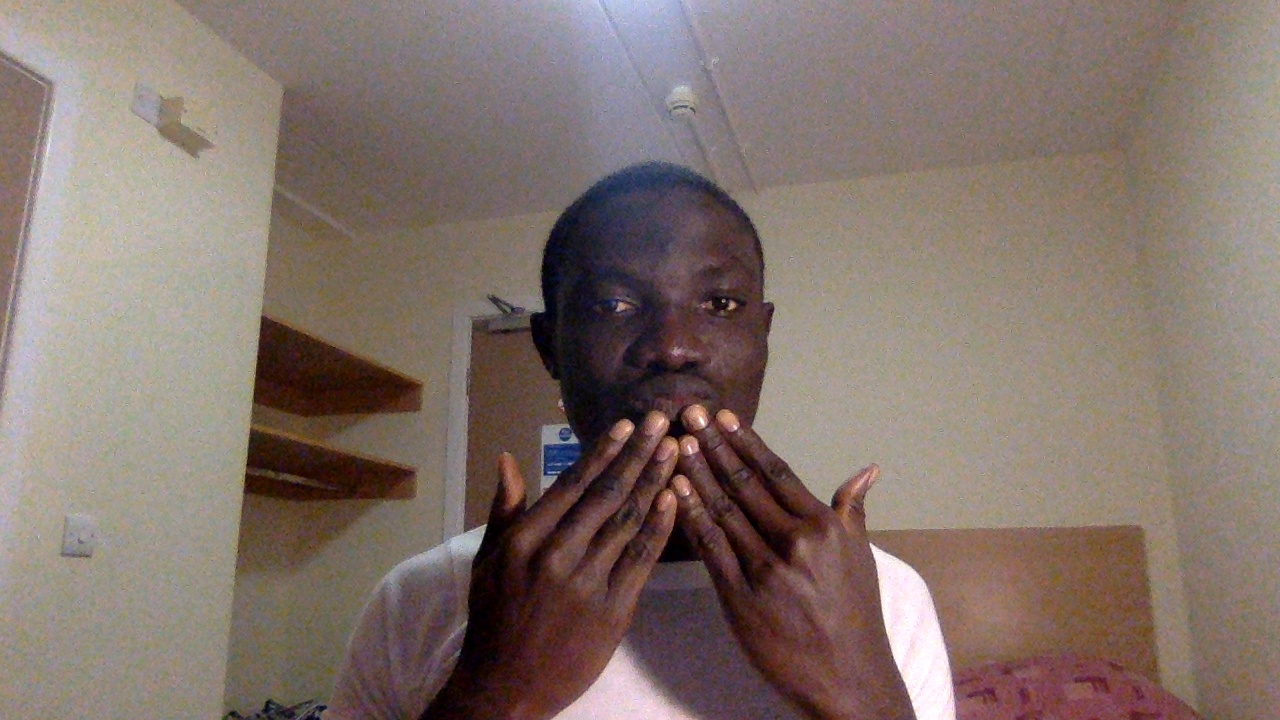Thank You: (458, 397, 921, 720)
